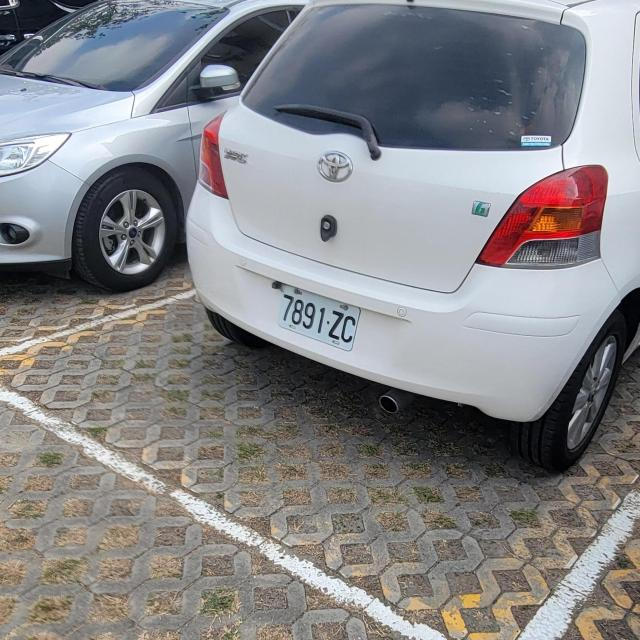W: (276, 284, 362, 352)
